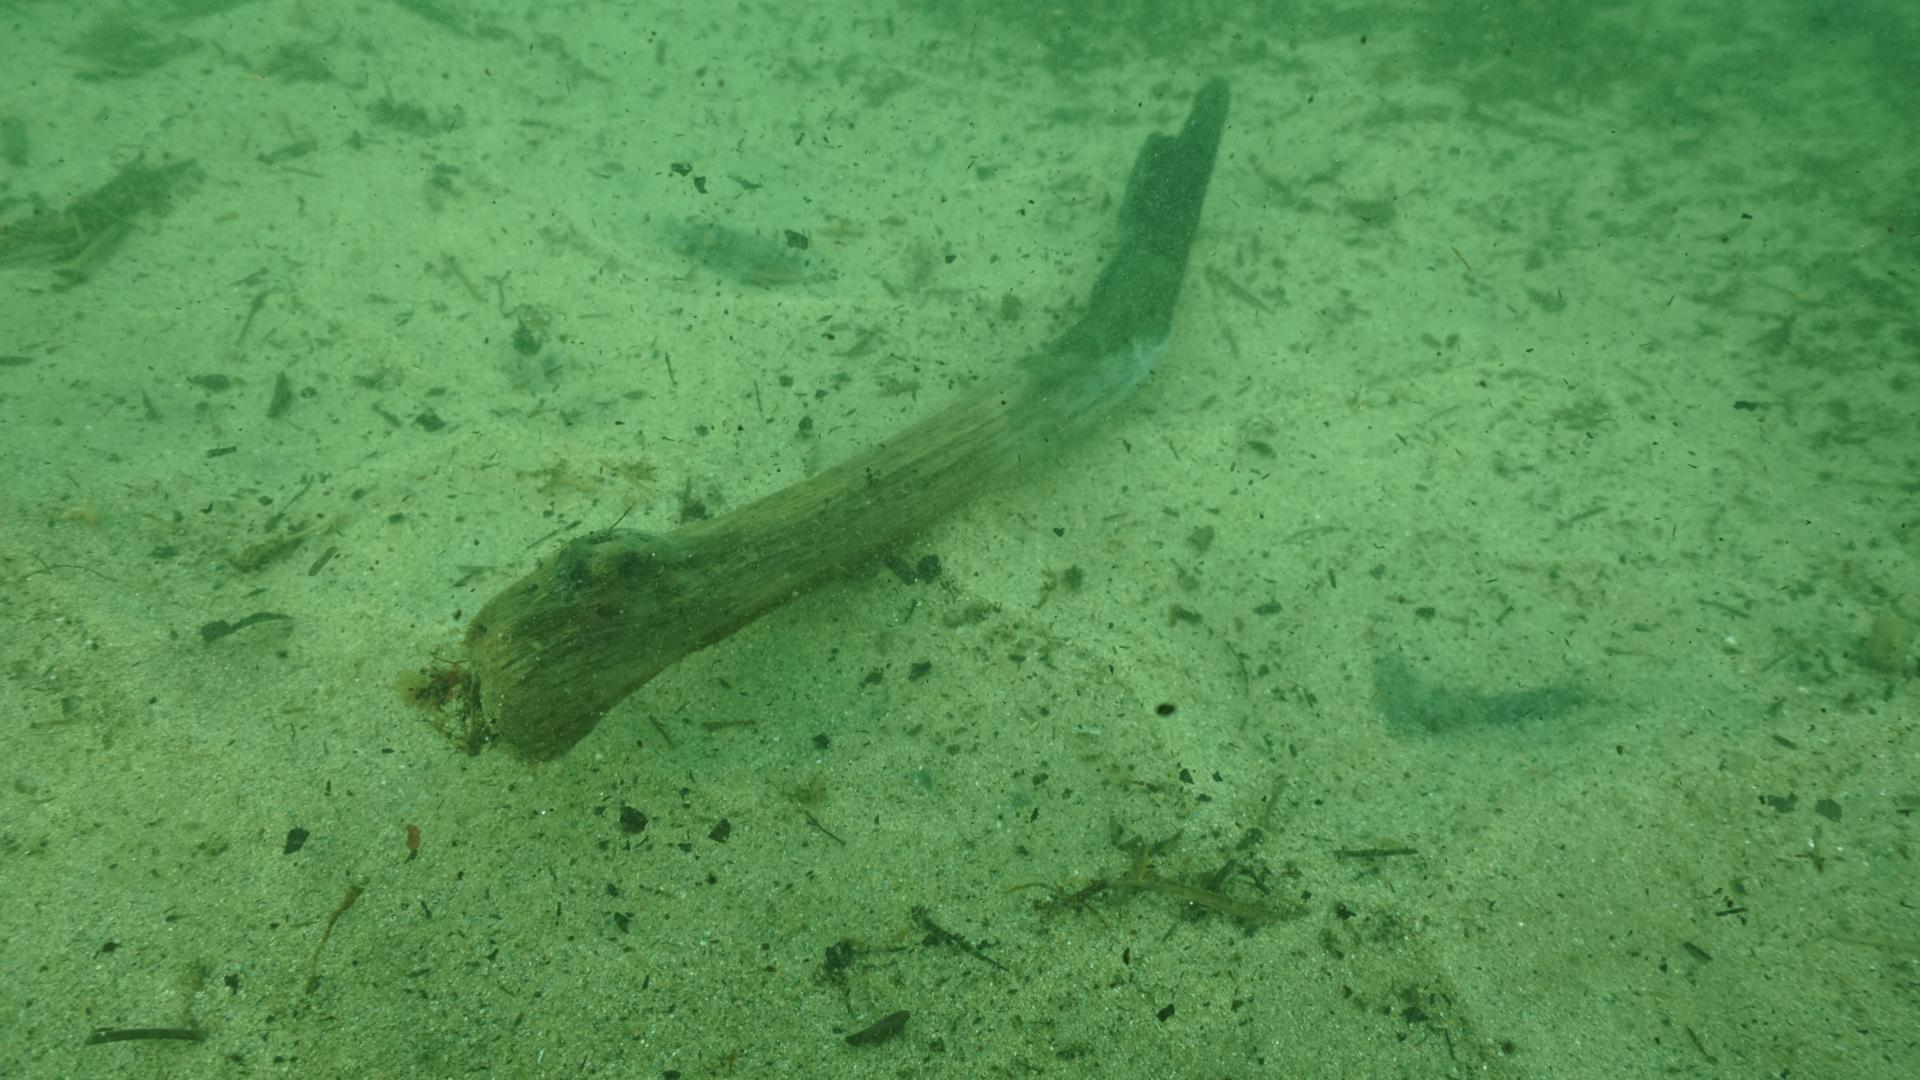wood: (459, 76, 1228, 765)
